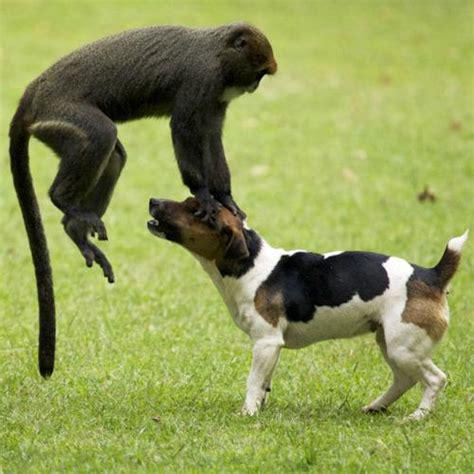dog: (147, 196, 465, 421)
monkey: (8, 20, 275, 378)
